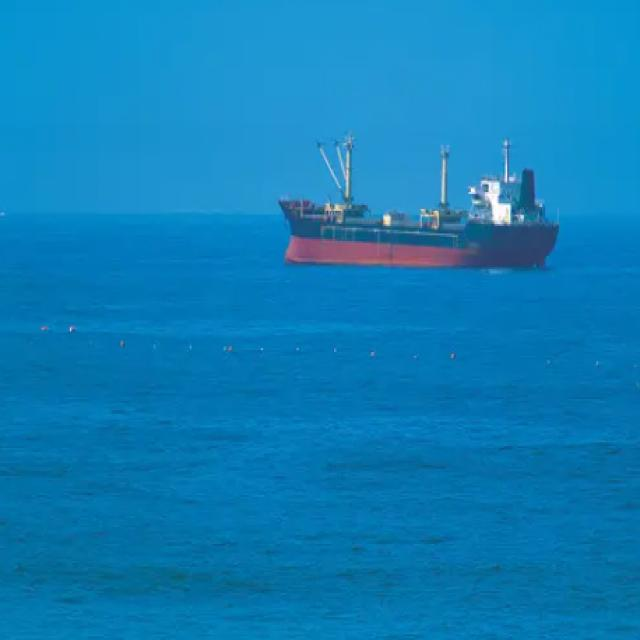cargoship: (272, 130, 564, 271)
